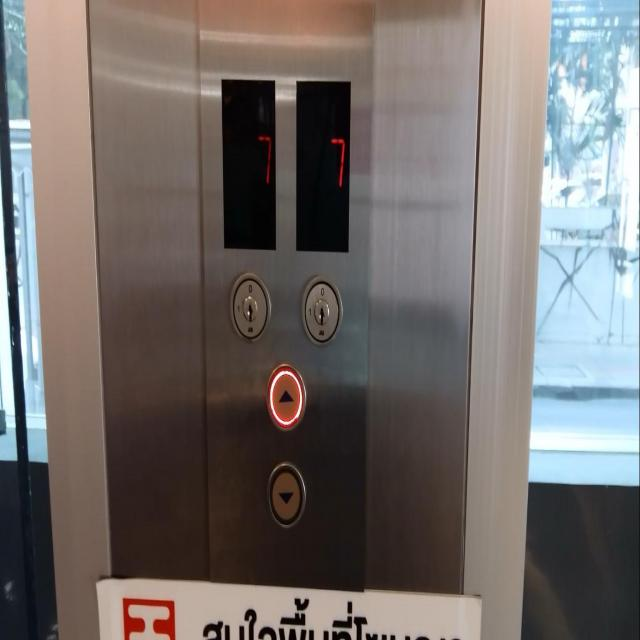down: (265, 462, 306, 529)
keyhole: (229, 272, 271, 342), (302, 276, 342, 346)
led: (218, 75, 278, 254), (294, 75, 352, 255)
up: (266, 362, 307, 432)
